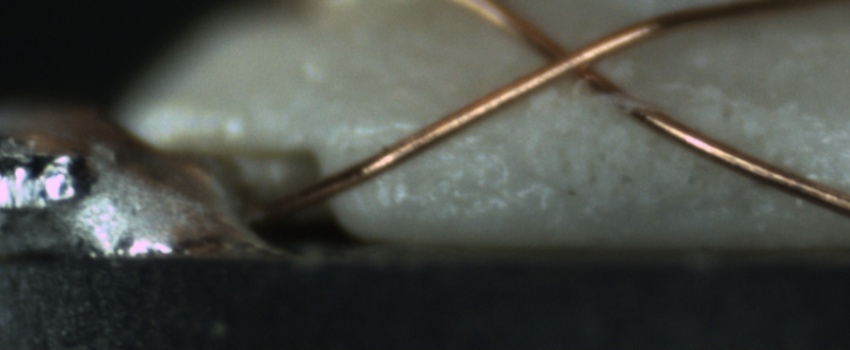CL: (519, 25, 619, 95)
